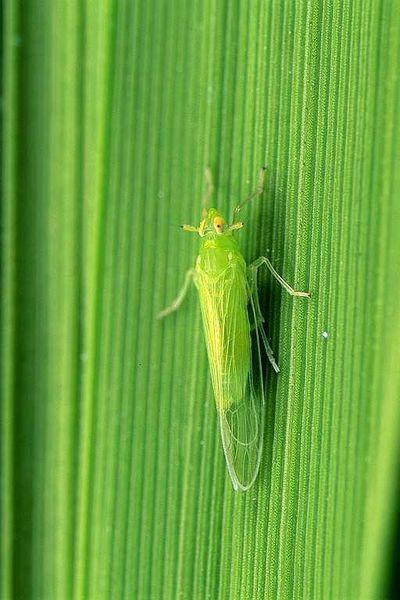Delphacidae: (155, 163, 313, 491)
